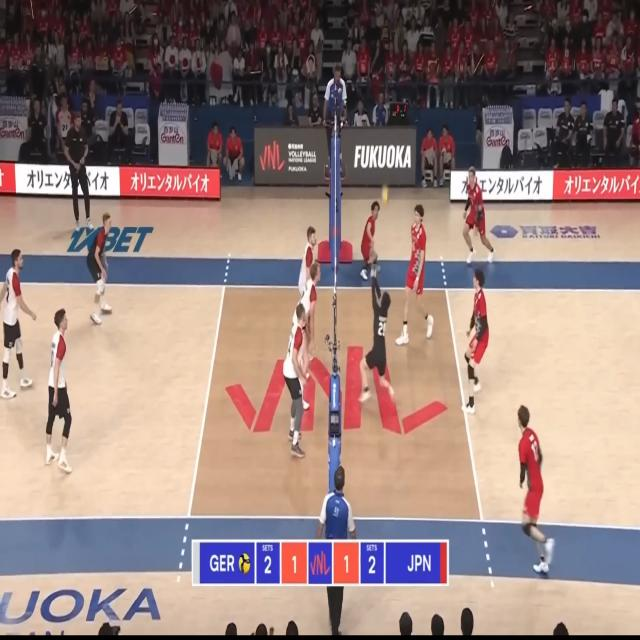ball: (382, 185, 388, 202)
